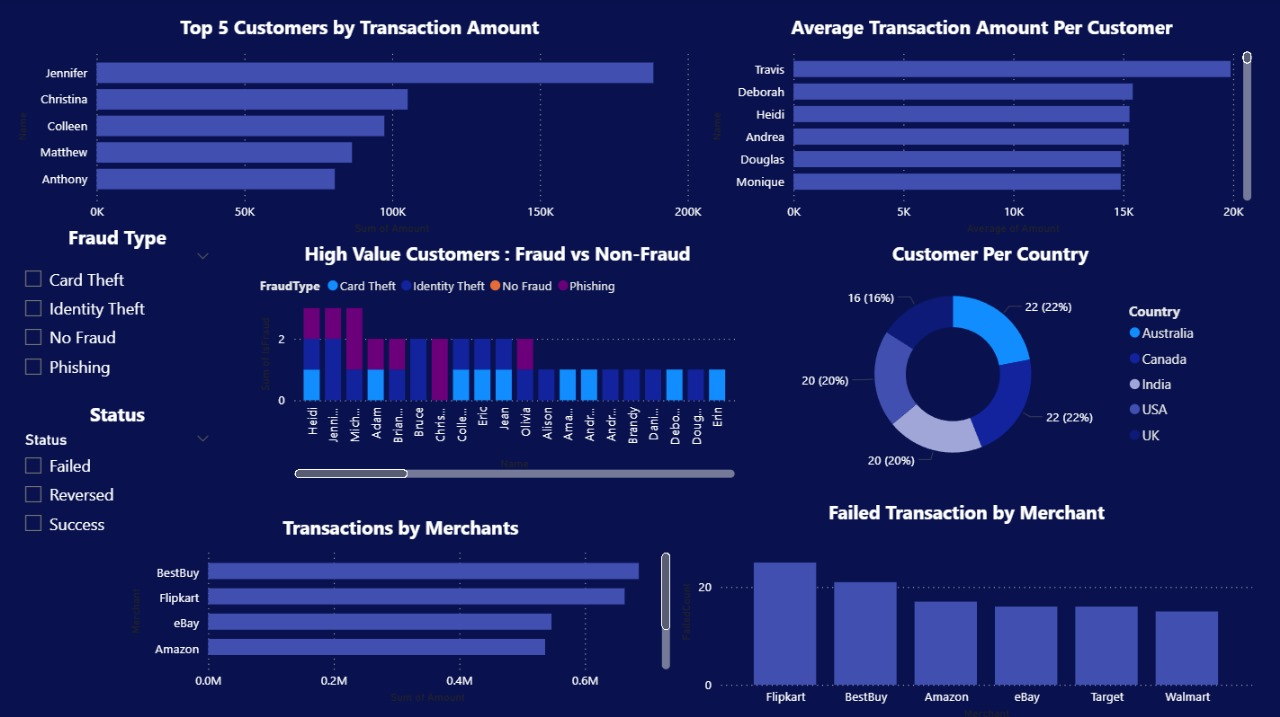

This screenshot's page, from the dashboard's own definition file:
{"tool":"powerbi","page":{"name":"Customer & Merchant Analysis","canvas":[1280,720],"ordinal":1},"visuals":[{"type":"barChart","title":"Transactions by Merchants","fields":{"Category":["project transactions.Merchant"],"Y":["project transactions.Amount"]},"box":[128,512,544,192],"z":0},{"type":"barChart","title":"Average Transaction Amount Per Customer","fields":{"Category":["project customers.Name"],"Y":["project transactions.Amount"]},"box":[704,16,544,224],"z":1000},{"type":"columnChart","title":"Failed Transaction by Merchant","fields":{"Category":["project transactions.Merchant"],"Y":["project customers.FailedCount"]},"box":[672,496,576,224],"z":2000},{"type":"clusteredBarChart","title":"Top 5 Customers by Transaction Amount","fields":{"Category":["project customers.Name"],"Y":["project transactions.Amount"]},"box":[16,16,688,224],"z":3000},{"type":"columnChart","title":"High Value Customers : Fraud vs Non-Fraud","fields":{"Category":["project customers.Name"],"Y":["project fraudflags.IsFraud"],"Series":["project fraudflags.FraudType"]},"box":[256,240,480,240],"z":4000},{"type":"donutChart","title":"Customer Per Country","fields":{"Category":["project customers.Country"],"Y":["project customers.CustomerID"]},"box":[768,240,432,240],"z":6000},{"type":"slicer","title":"Fraud Type","fields":{"Values":["project fraudflags.FraudType"]},"box":[16,224,208,192],"z":7000},{"type":"slicer","title":"Status","fields":{"Values":["project transactions.Status"]},"box":[16,400,208,144],"z":8000}]}

Visuals, with their boxes in screenshot pixels (x1, y1, x2, y2), scaled from the page's 1280x720 canvas onto the 1280x717 screenshot:
"Transactions by Merchants" barChart: (128, 510, 672, 701)
"Average Transaction Amount Per Customer" barChart: (704, 16, 1248, 239)
"Failed Transaction by Merchant" columnChart: (672, 494, 1248, 716)
"Top 5 Customers by Transaction Amount" clusteredBarChart: (16, 16, 704, 239)
"High Value Customers : Fraud vs Non-Fraud" columnChart: (256, 239, 736, 478)
"Customer Per Country" donutChart: (768, 239, 1200, 478)
"Fraud Type" slicer: (16, 223, 224, 414)
"Status" slicer: (16, 398, 224, 542)
